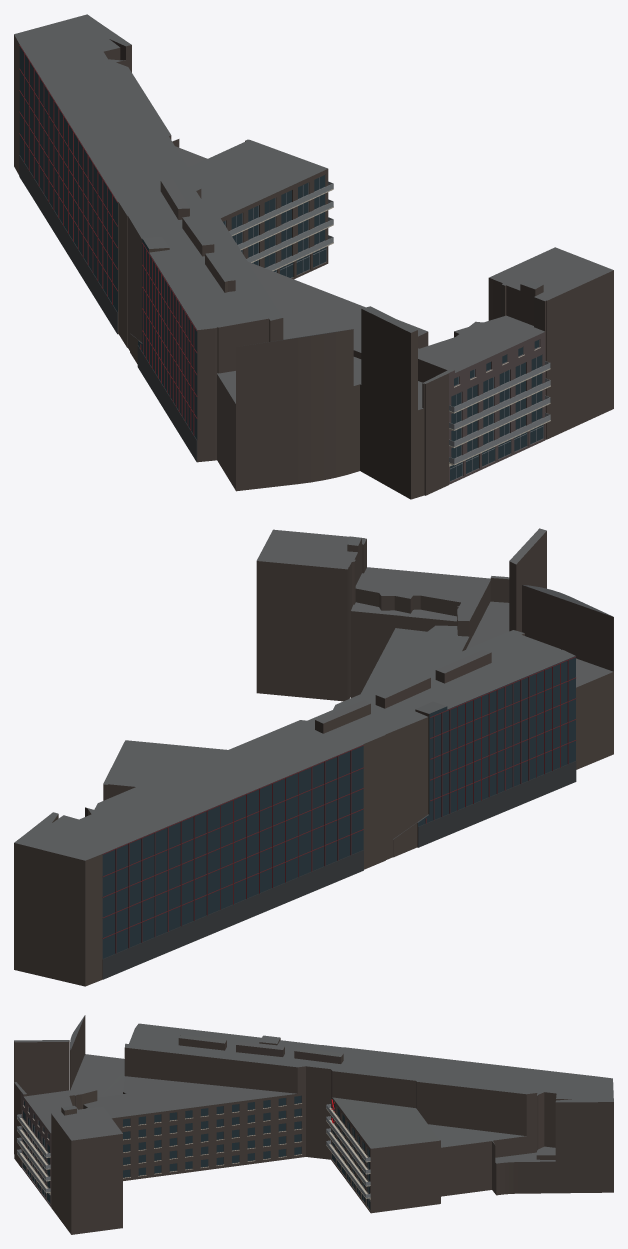
File: recipe-large-stadsloket-west.glb
The picture shows the model from 3 angles, top to bottom: view 1: azimuth 30°, elevation 25°; view 2: azimuth 150°, elevation 25°; view 3: azimuth 270°, elevation 25°; orthographic projection. The views are drawn at different scales.
Parts seen in each view (by area): view 1: stadsloket-west; view 2: stadsloket-west; view 3: stadsloket-west.
Boxes of the visible parts, x1,y1,x2,y2 form: stadsloket-west: (14, 14, 613, 499); stadsloket-west: (14, 528, 613, 986); stadsloket-west: (14, 1015, 613, 1234).
Size of the model in its own units: 71.56 by 31.14 by 149.
